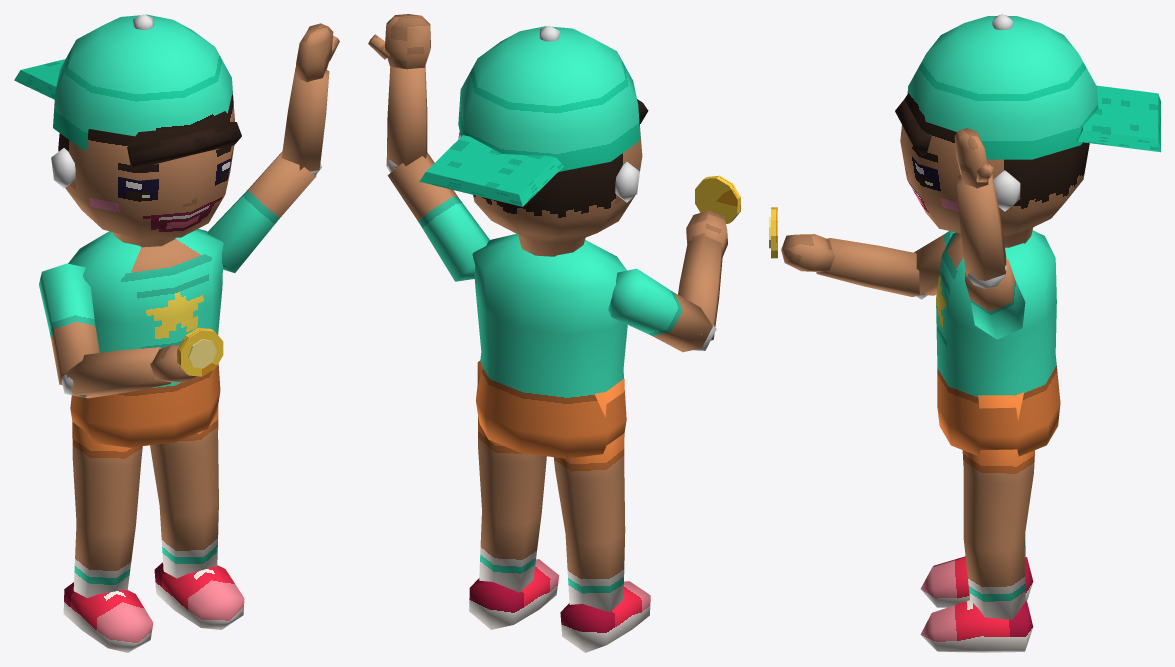
File: Kid Cap.fbx
3 renders of one model, left to right at view 1: azimuth 30°, elevation 25°; view 2: azimuth 150°, elevation 25°; view 3: azimuth 270°, elevation 25°, orthographic.
Visible parts, largest first — view 1: Kid Cap torso, Kid Cap cap, Kid Cap head, Kid Cap leg R.001, Kid Cap leg L.001, Kid Cap arm L upper, Kid Cap arm R upper, Kid Cap shoe L, Kid Cap shoe R, Kid Cap arm R forearm.001, Kid Cap arm L forearm.001, Kid Cap hair tuft (+6 smaller); view 2: Kid Cap torso, Kid Cap cap, Kid Cap leg R.001, Kid Cap leg L.001, Kid Cap head, Kid Cap cap brim, Kid Cap arm L upper, Kid Cap arm R upper, Kid Cap arm L forearm.001, Kid Cap shoe R, Kid Cap shoe L, Kid Cap arm R forearm.001 (+4 smaller); view 3: Kid Cap torso, Kid Cap cap, Kid Cap leg L.001, Kid Cap head, Kid Cap shoe L, Kid Cap cap brim, Kid Cap arm L forearm.001, Kid Cap arm R forearm.001, Kid Cap arm L upper, Kid Cap shoe R, Kid Cap arm R hand, Kid Cap arm L hand (+3 smaller).
Part boxes in pixels (x1=…): Kid Cap torso: x1=68, y1=228, x2=223, y2=447; Kid Cap cap: x1=53, y1=14, x2=233, y2=150; Kid Cap head: x1=58, y1=94, x2=234, y2=247; Kid Cap leg R.001: x1=72, y1=422, x2=142, y2=598; Kid Cap leg L.001: x1=150, y1=406, x2=218, y2=578; Kid Cap arm L upper: x1=207, y1=151, x2=316, y2=272; Kid Cap arm R upper: x1=39, y1=263, x2=99, y2=385; Kid Cap shoe L: x1=154, y1=562, x2=244, y2=629; Kid Cap shoe R: x1=63, y1=582, x2=153, y2=652; Kid Cap arm R forearm.001: x1=66, y1=347, x2=171, y2=398; Kid Cap arm L forearm.001: x1=281, y1=67, x2=329, y2=171; Kid Cap hair tuft: x1=127, y1=122, x2=241, y2=170; Kid Cap torso: x1=472, y1=234, x2=627, y2=458; Kid Cap cap: x1=458, y1=26, x2=640, y2=171; Kid Cap leg R.001: x1=553, y1=378, x2=625, y2=612; Kid Cap leg L.001: x1=477, y1=360, x2=546, y2=592; Kid Cap head: x1=473, y1=116, x2=642, y2=256; Kid Cap cap brim: x1=419, y1=135, x2=563, y2=206; Kid Cap arm L upper: x1=387, y1=152, x2=489, y2=281; Kid Cap arm R upper: x1=608, y1=268, x2=712, y2=352; Kid Cap arm L forearm.001: x1=386, y1=65, x2=427, y2=167; Kid Cap shoe R: x1=560, y1=581, x2=650, y2=652; Kid Cap shoe L: x1=469, y1=559, x2=559, y2=629; Kid Cap arm R forearm.001: x1=678, y1=236, x2=722, y2=340; Kid Cap torso: x1=936, y1=230, x2=1060, y2=456; Kid Cap cap: x1=907, y1=16, x2=1098, y2=159; Kid Cap leg L.001: x1=962, y1=392, x2=1034, y2=619; Kid Cap head: x1=900, y1=94, x2=1089, y2=247; Kid Cap shoe L: x1=920, y1=600, x2=1033, y2=652; Kid Cap cap brim: x1=1077, y1=85, x2=1160, y2=152; Kid Cap arm L forearm.001: x1=957, y1=174, x2=1006, y2=280; Kid Cap arm R forearm.001: x1=816, y1=238, x2=924, y2=296; Kid Cap arm L upper: x1=965, y1=258, x2=1025, y2=339; Kid Cap shoe R: x1=920, y1=556, x2=1033, y2=607; Kid Cap arm R hand: x1=781, y1=234, x2=835, y2=271; Kid Cap arm L hand: x1=954, y1=128, x2=988, y2=188.
Size of the model in its own units: 0.6004 by 1.12 by 0.6481.
13 materials, 11 textured.
